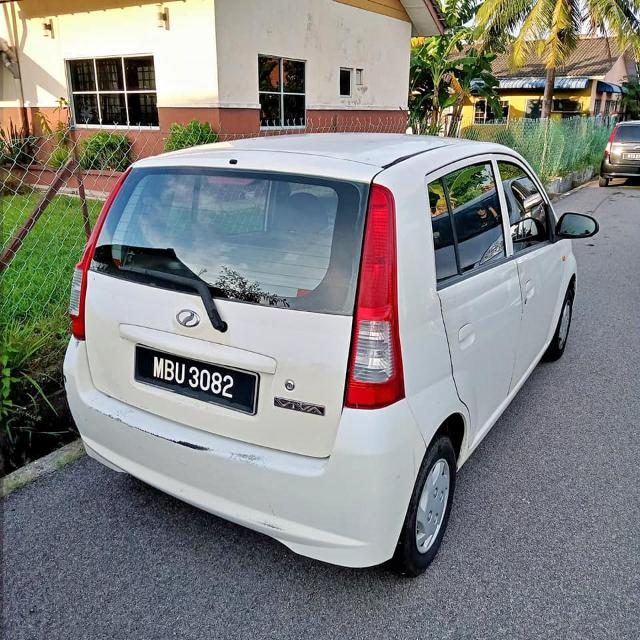License_Plate: (133, 349, 252, 406)
